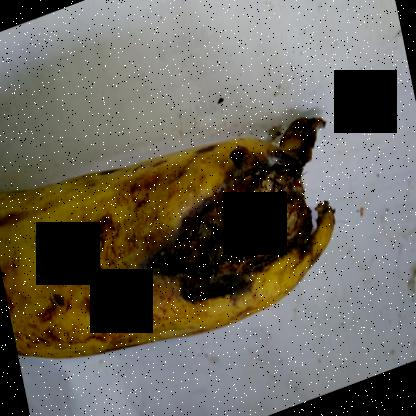rotten: (138, 106, 340, 334)
